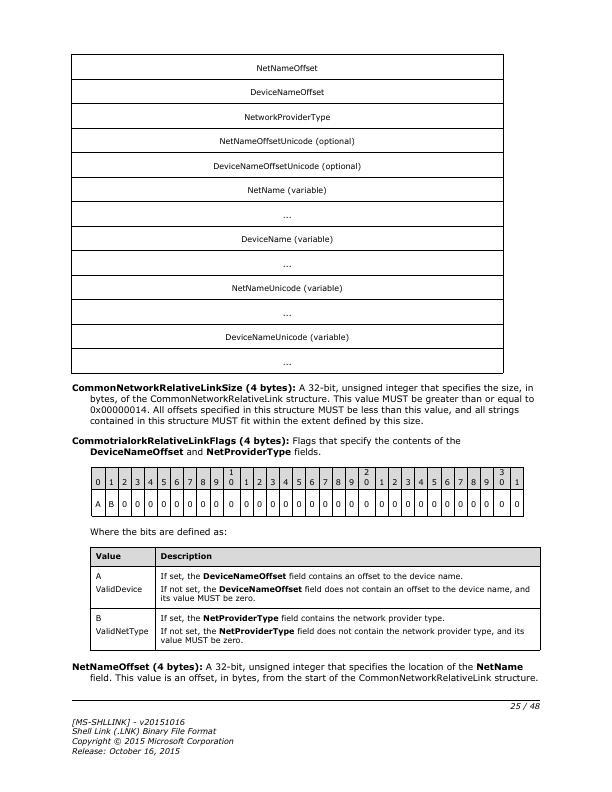table: (68, 52, 507, 376), (88, 546, 543, 654), (90, 466, 527, 519)
text: (68, 381, 535, 426), (68, 661, 543, 684), (68, 434, 462, 457), (68, 715, 234, 757), (87, 523, 230, 539)
